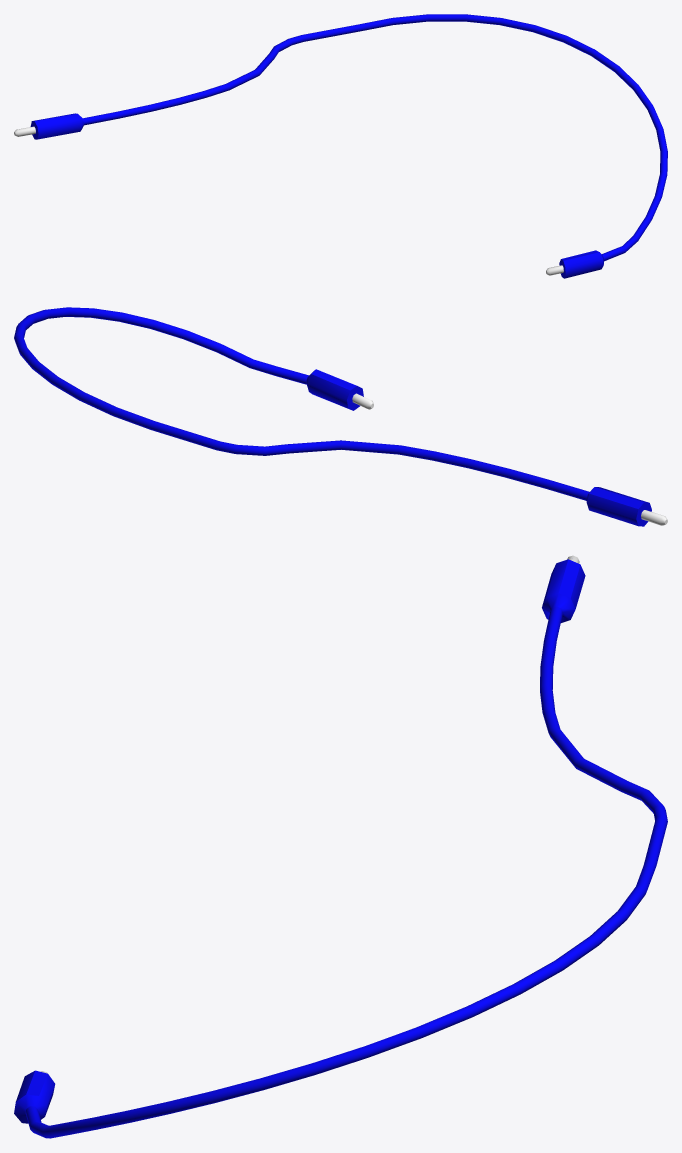
The model's file is ElectroWires06_3.FBX.
3 renders of one model, top to bottom at view 1: azimuth 30°, elevation 25°; view 2: azimuth 150°, elevation 25°; view 3: azimuth 270°, elevation 25°, orthographic. The views are drawn at different scales.
Parts seen in each view (by area): view 1: Object001; view 2: Object001; view 3: Object001.
Boxes of the visible parts, <box> form: Object001: <box>14,14,667,278</box>; Object001: <box>14,307,667,526</box>; Object001: <box>14,555,667,1138</box>.
Bounding box in the file's own units: 87.14 × 20.38 × 52.53.
